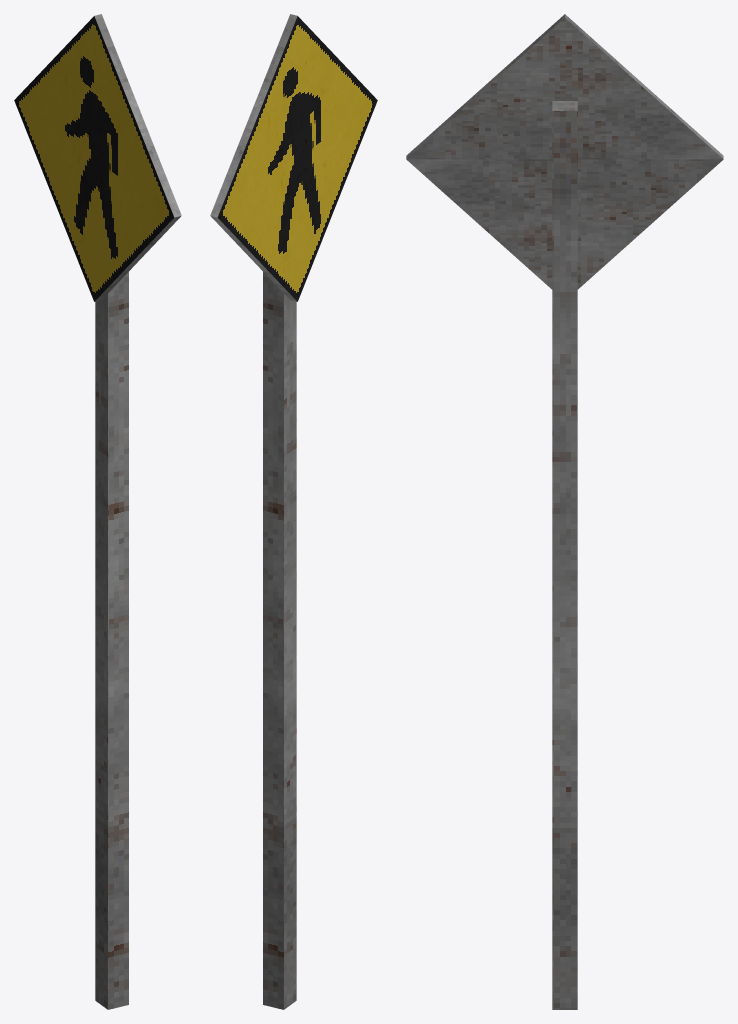
File: Sign_Crossing.glb
The picture shows the model from 3 angles, left to right: view 1: azimuth 30°, elevation 25°; view 2: azimuth 150°, elevation 25°; view 3: azimuth 270°, elevation 25°; orthographic projection.
Visible parts, largest first — view 1: Sign_Crossing; view 2: Sign_Crossing; view 3: Sign_Crossing.
Part boxes in pixels (x1,y1,x2,y2): Sign_Crossing: [14, 14, 181, 1009]; Sign_Crossing: [210, 14, 377, 1009]; Sign_Crossing: [406, 14, 723, 1009].
Bounding box in the file's own units: 0.0576 × 1.93 × 0.5665.
1 material, 1 textured.
